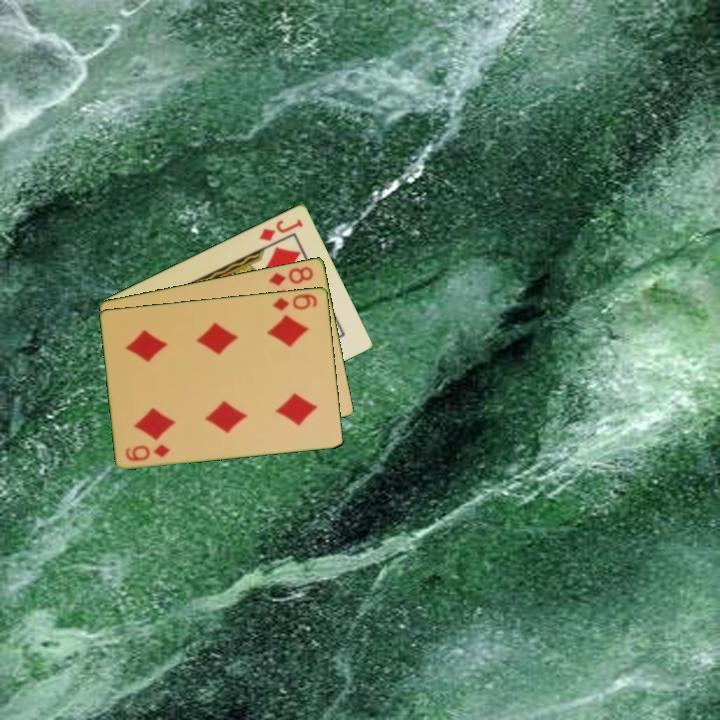6d: (122, 440, 173, 464), (269, 290, 321, 313)
8d: (265, 262, 316, 288)
Jd: (256, 215, 306, 244)
